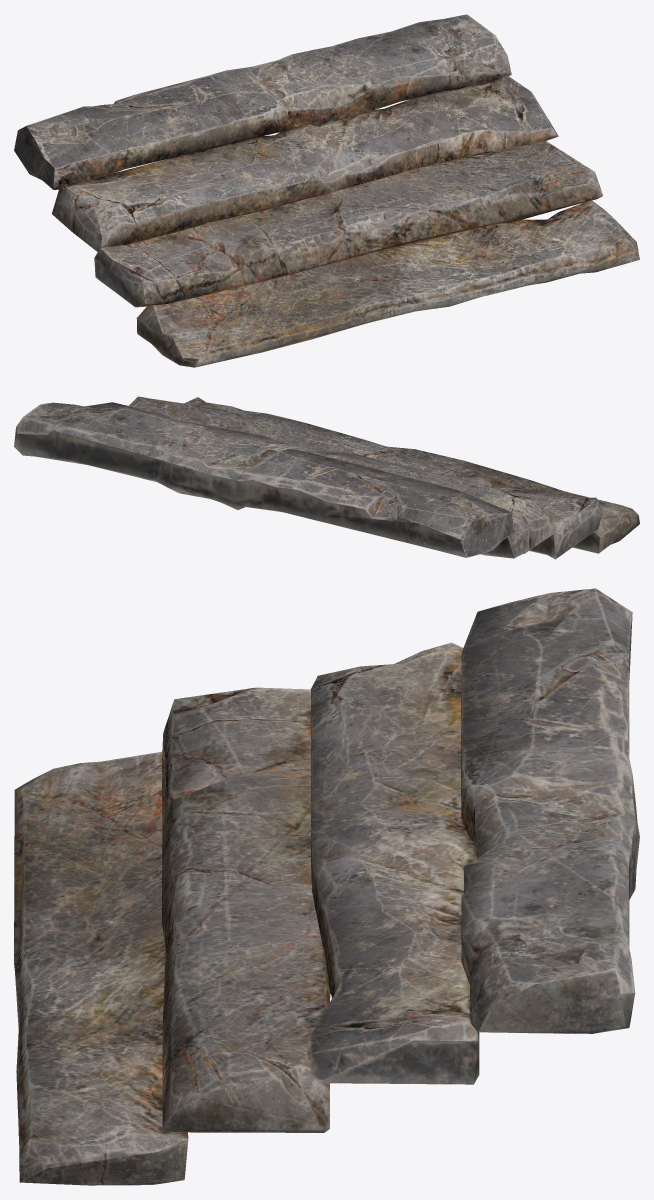
File: SM_Stairs01.FBX
3 views of the same model, one above another, from view 1: azimuth 30°, elevation 25°; view 2: azimuth 150°, elevation 25°; view 3: azimuth 270°, elevation 25° (orthographic). The views are drawn at different scales.
Parts seen in each view (by area): view 1: SM_Stairs01; view 2: SM_Stairs01; view 3: SM_Stairs01.
Part boxes in pixels (box(x1,y1,x2,y2)): SM_Stairs01: box(14, 14, 639, 367); SM_Stairs01: box(14, 396, 639, 559); SM_Stairs01: box(14, 588, 639, 1185).
Bounding box in the file's own units: 614 × 410 × 163.
